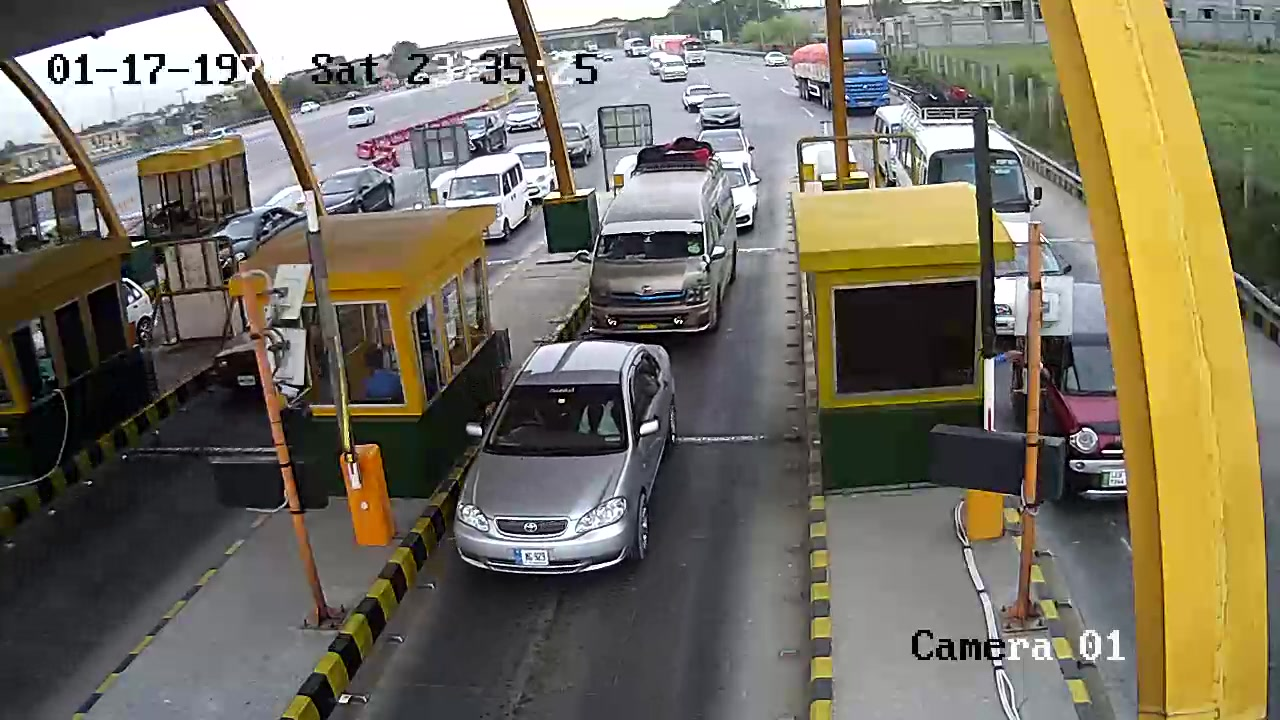F1: (438, 340, 693, 583)
F3: (583, 135, 737, 339)
